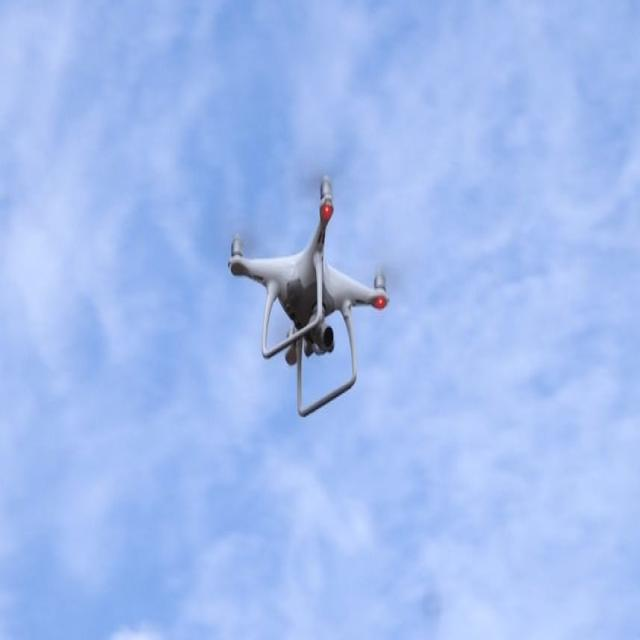drone: (207, 160, 407, 430)
